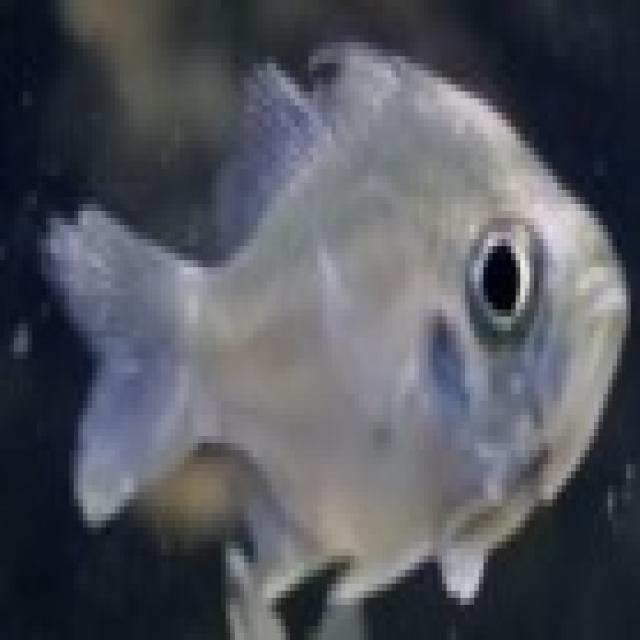Glass-Perchlet: (14, 0, 631, 640)
